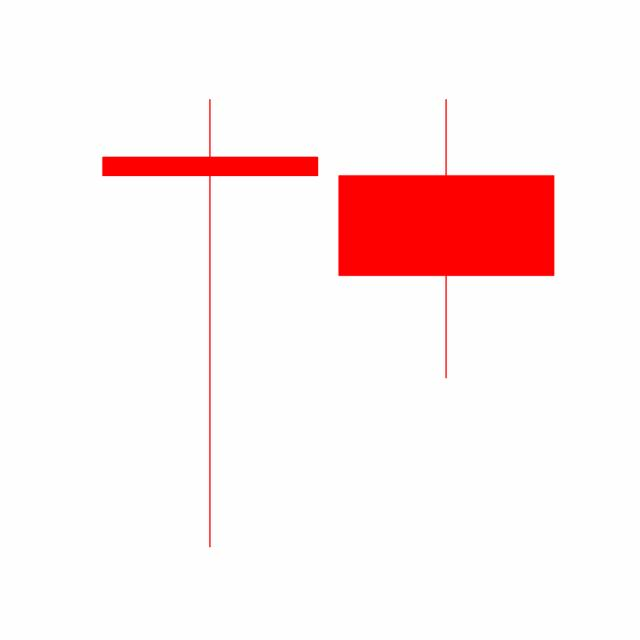Hanging Man: (327, 96, 565, 382)
